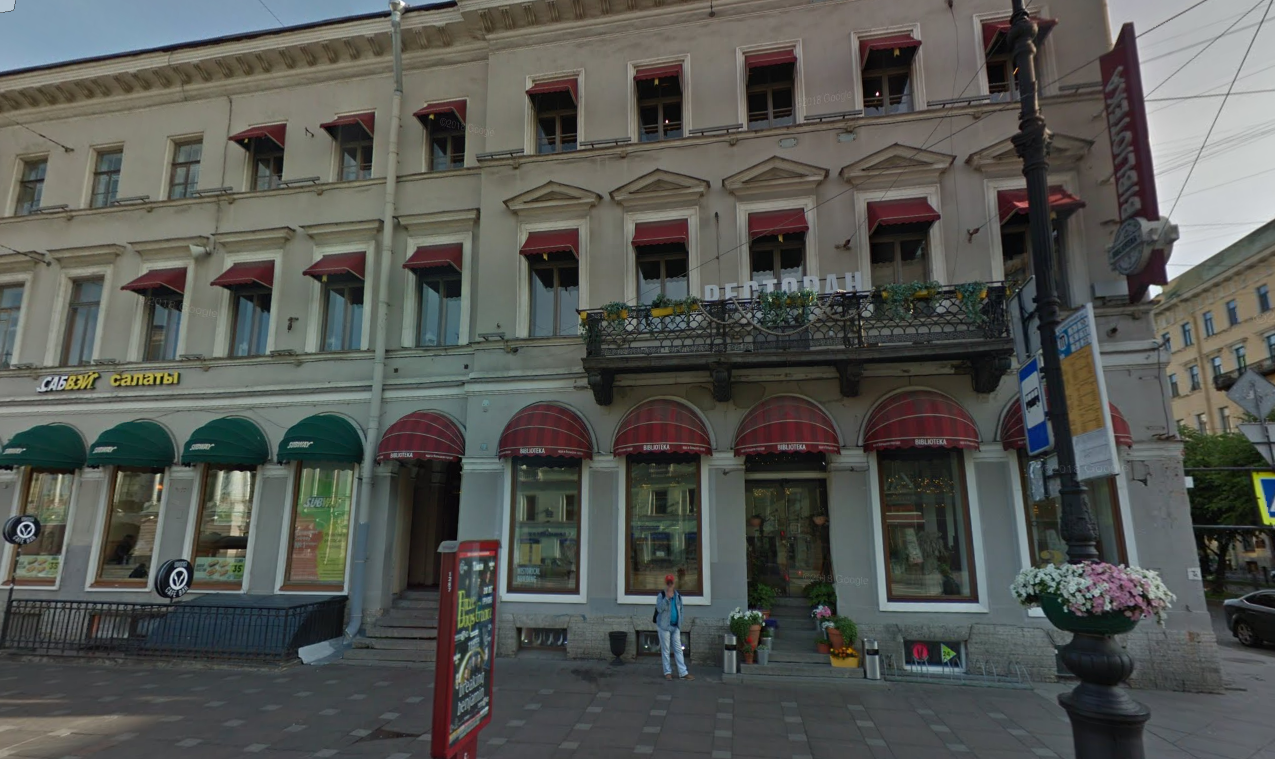cantilever: (1080, 22, 1184, 304)
signboard: (35, 363, 185, 393)
win_ad: (289, 465, 347, 582)
window: (892, 451, 961, 596), (625, 457, 698, 594), (513, 463, 581, 593), (90, 470, 162, 590), (189, 465, 257, 586), (286, 466, 351, 582), (855, 52, 916, 119), (59, 273, 100, 366), (871, 233, 931, 296), (529, 260, 579, 335), (745, 240, 806, 294), (640, 247, 691, 311), (746, 69, 796, 134), (314, 284, 360, 353), (418, 277, 462, 349), (643, 76, 684, 142), (140, 299, 180, 365), (228, 294, 267, 360), (88, 142, 125, 209), (168, 135, 205, 201), (539, 100, 577, 156), (428, 121, 465, 173), (13, 155, 45, 215), (337, 135, 375, 184), (252, 146, 282, 193)
